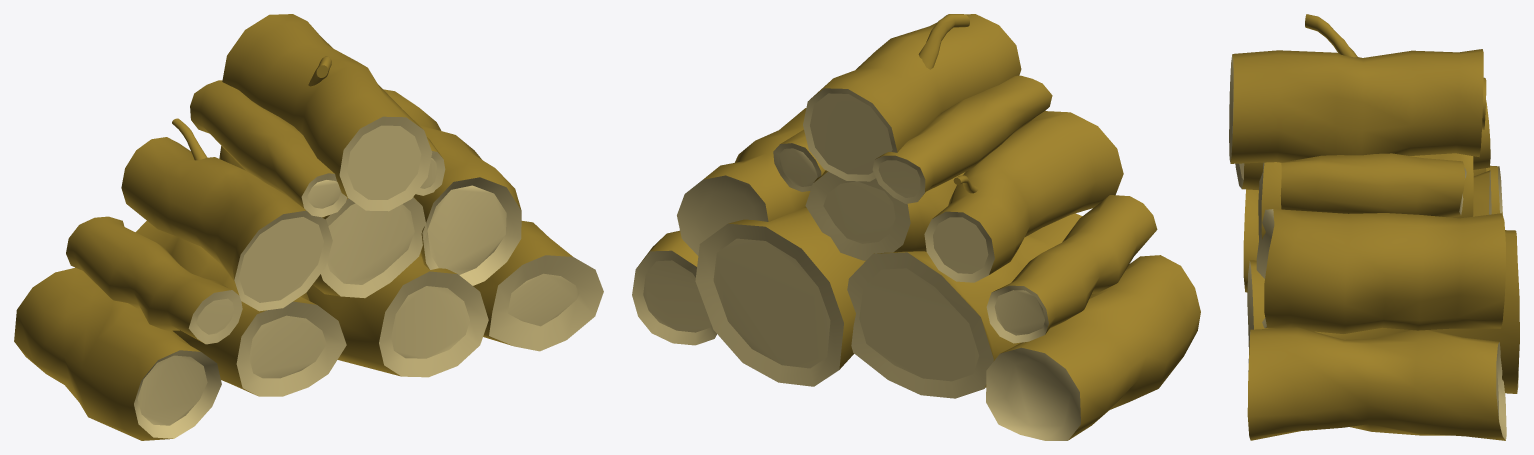
File: WOOD-STACK.glb
3 views of the same model, side by side, from view 1: azimuth 30°, elevation 25°; view 2: azimuth 150°, elevation 25°; view 3: azimuth 270°, elevation 25° (orthographic). The views are drawn at different scales.
Visible parts, largest first — view 1: WOOD STACK; view 2: WOOD STACK; view 3: WOOD STACK.
Boxes of the visible parts, box(x1,y1,x2,y2) form: WOOD STACK: box(14, 14, 603, 440); WOOD STACK: box(632, 14, 1200, 440); WOOD STACK: box(1229, 14, 1519, 440).
Bounding box in the file's own units: 1.57 × 1.02 × 0.8051.
